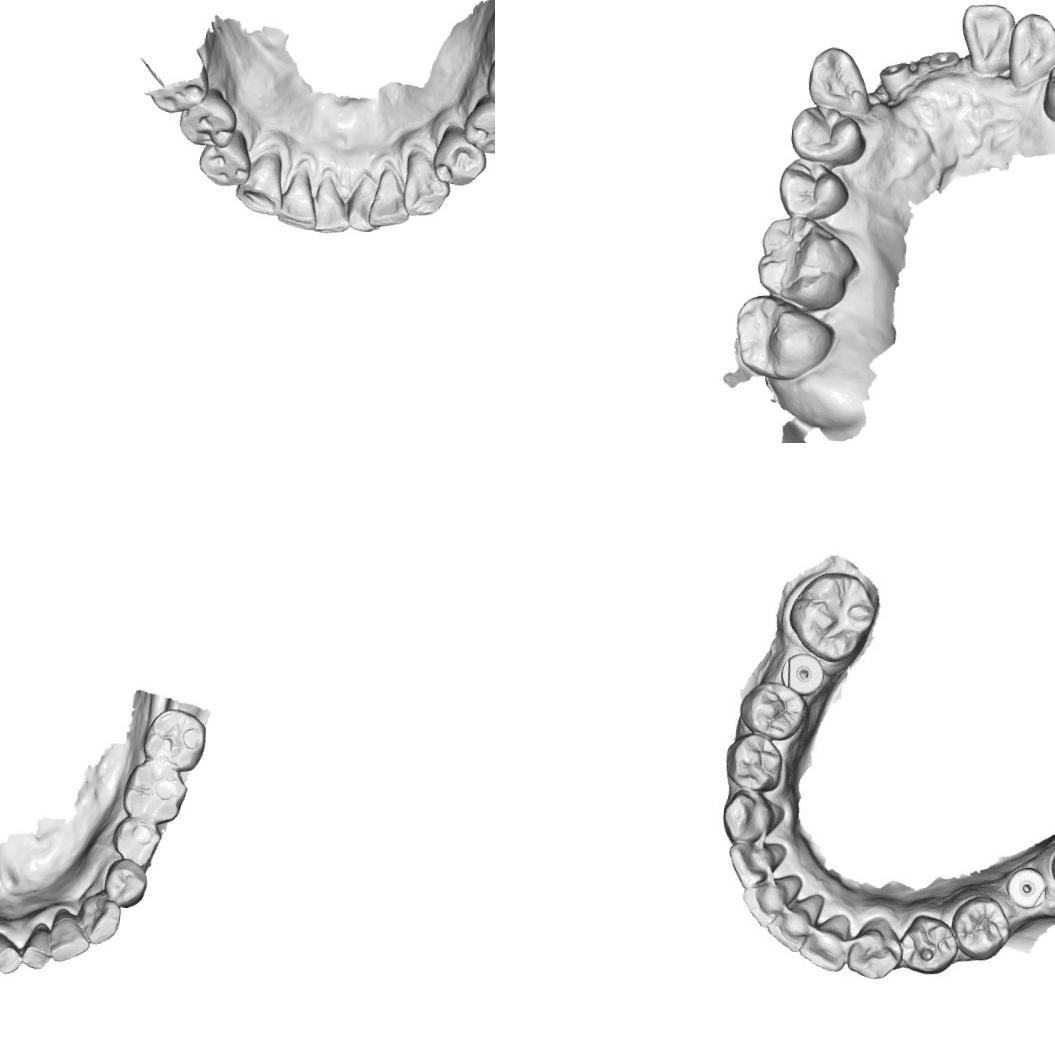canine: (801, 41, 878, 117), (999, 8, 1055, 95), (399, 142, 454, 222), (231, 148, 290, 218), (848, 916, 901, 985), (720, 789, 784, 845), (76, 890, 122, 946)
implant: (775, 650, 827, 696), (1001, 863, 1048, 912), (874, 54, 914, 98), (922, 42, 960, 78)
incisor: (955, 0, 1018, 78), (722, 836, 788, 888), (739, 875, 797, 931), (274, 166, 322, 232), (799, 914, 853, 972), (342, 167, 385, 236), (365, 167, 412, 230), (764, 898, 816, 954), (309, 173, 353, 237), (48, 911, 90, 967), (17, 922, 57, 972), (0, 928, 24, 977)
molar: (750, 212, 860, 314), (728, 290, 838, 386), (786, 564, 878, 664), (117, 755, 190, 828), (140, 704, 208, 774)
premolar: (770, 152, 856, 224), (784, 101, 868, 166), (736, 679, 812, 742), (947, 892, 1014, 962), (896, 910, 962, 978), (721, 730, 789, 794), (430, 123, 490, 192), (192, 128, 258, 190), (174, 90, 239, 150), (108, 812, 167, 868), (100, 854, 150, 914), (459, 94, 495, 158), (1037, 43, 1055, 129)
